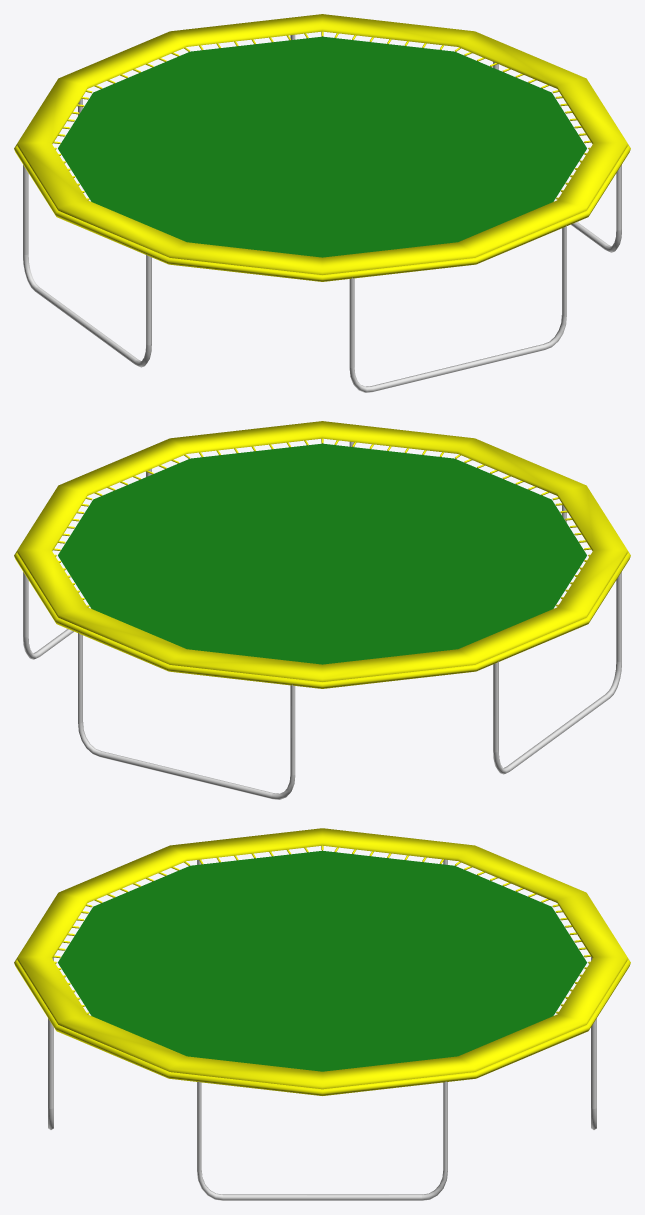
3 renders of one model, top to bottom at view 1: azimuth 30°, elevation 25°; view 2: azimuth 150°, elevation 25°; view 3: azimuth 270°, elevation 25°, orthographic.
Visible parts, largest first — view 1: skeA630_001, Trampoline_Pad_001, Trampoline_Ring_001, Trampoline_Leg_001, Trampoline_Leg_004, Trampoline_Leg_002; view 2: skeA630_001, Trampoline_Pad_001, Trampoline_Ring_001, Trampoline_Leg_003, Trampoline_Leg_004, Trampoline_Leg_002; view 3: skeA630_001, Trampoline_Pad_001, Trampoline_Ring_001, Trampoline_Leg_002, Trampoline_Leg_001, Trampoline_Leg_003.
Part boxes in pixels (x1,y1,x2,y2): skeA630_001: (58, 36, 586, 257); Trampoline_Pad_001: (17, 14, 627, 274); Trampoline_Ring_001: (14, 144, 630, 281); Trampoline_Leg_001: (349, 225, 566, 392); Trampoline_Leg_004: (23, 164, 151, 367); Trampoline_Leg_002: (493, 62, 621, 252); skeA630_001: (58, 443, 586, 664); Trampoline_Pad_001: (17, 421, 627, 681); Trampoline_Ring_001: (14, 551, 630, 688); Trampoline_Leg_003: (78, 632, 295, 799); Trampoline_Leg_004: (493, 571, 621, 774); Trampoline_Leg_002: (23, 469, 151, 659); skeA630_001: (57, 850, 587, 1071); Trampoline_Pad_001: (17, 828, 627, 1089); Trampoline_Ring_001: (14, 958, 630, 1095); Trampoline_Leg_002: (197, 1081, 447, 1200); Trampoline_Leg_001: (48, 957, 53, 1129); Trampoline_Leg_003: (591, 957, 596, 1129).
Size of the model in its own units: 170 by 170 by 39.19.
